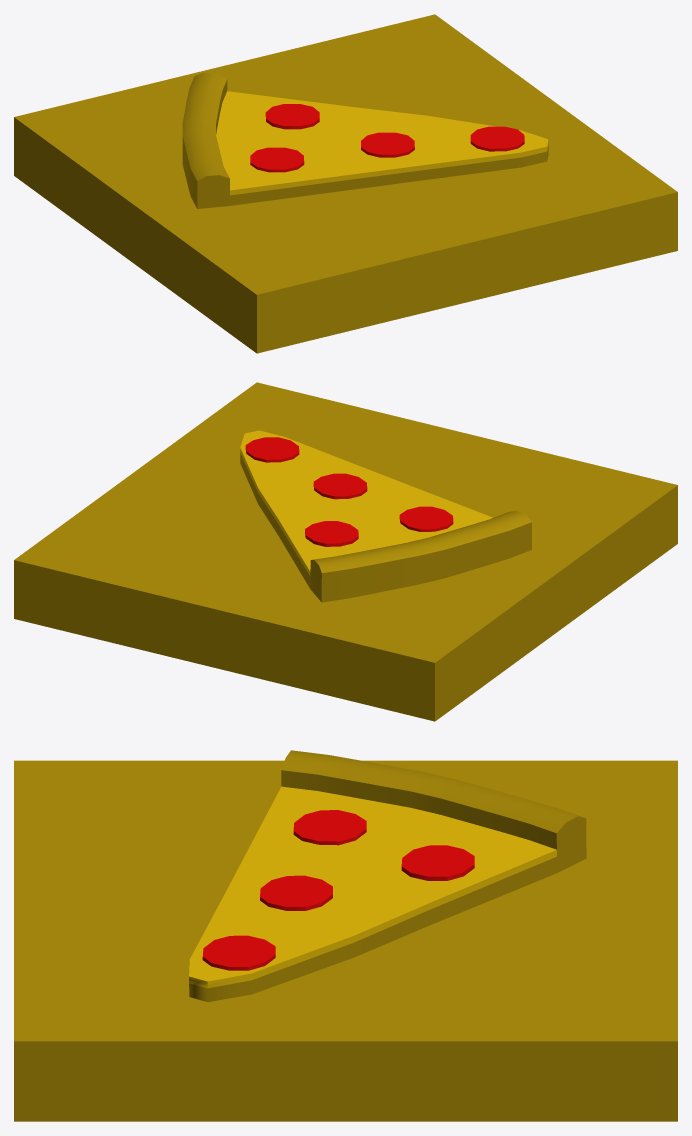
The model's file is Pizza Box.fbx.
3 renders of one model, top to bottom at view 1: azimuth 30°, elevation 25°; view 2: azimuth 150°, elevation 25°; view 3: azimuth 270°, elevation 25°, orthographic. The views are drawn at different scales.
Visible parts, largest first — view 1: pCube1, pizza2, sucuk1, sucuk2, sucuk3, sucuk; view 2: pCube1, pizza2, sucuk1, sucuk3, sucuk2, sucuk; view 3: pCube1, pizza2, sucuk1, sucuk3, sucuk2, sucuk.
Boxes of the visible parts, bbox=[...] form: pCube1: bbox=[14, 14, 677, 353]; pizza2: bbox=[182, 72, 548, 208]; sucuk1: bbox=[265, 104, 319, 129]; sucuk2: bbox=[470, 126, 524, 151]; sucuk3: bbox=[361, 132, 414, 157]; sucuk: bbox=[250, 147, 304, 172]; pCube1: bbox=[14, 382, 677, 721]; pizza2: bbox=[240, 430, 531, 602]; sucuk1: bbox=[305, 521, 358, 546]; sucuk3: bbox=[313, 473, 367, 499]; sucuk2: bbox=[245, 437, 299, 462]; sucuk: bbox=[399, 506, 453, 531]; pCube1: bbox=[14, 760, 677, 1121]; pizza2: bbox=[189, 750, 586, 1002]; sucuk1: bbox=[401, 845, 474, 880]; sucuk3: bbox=[260, 875, 332, 910]; sucuk2: bbox=[202, 935, 275, 970]; sucuk: bbox=[293, 810, 366, 845].
Size of the model in its own units: 2.39 by 0.5028 by 2.39.
